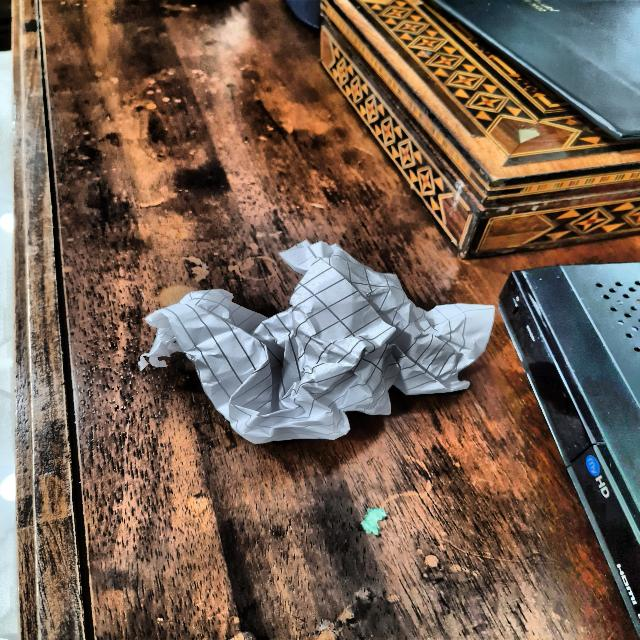Paper: (138, 236, 496, 444)
